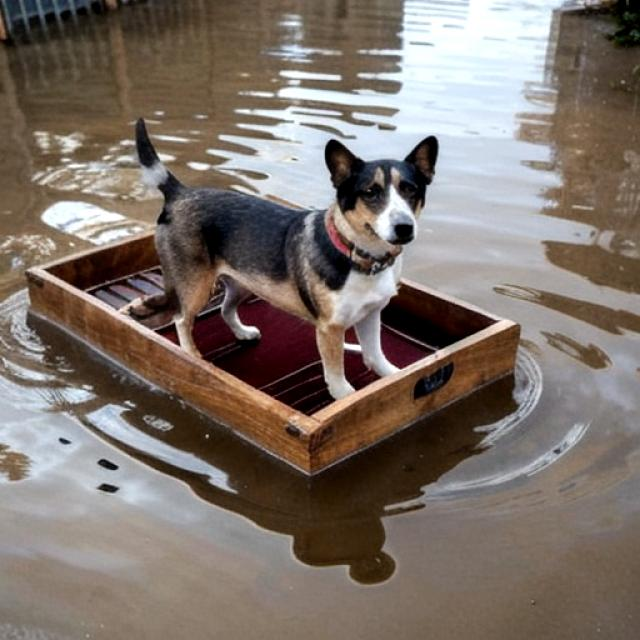dog: (125, 107, 460, 405)
